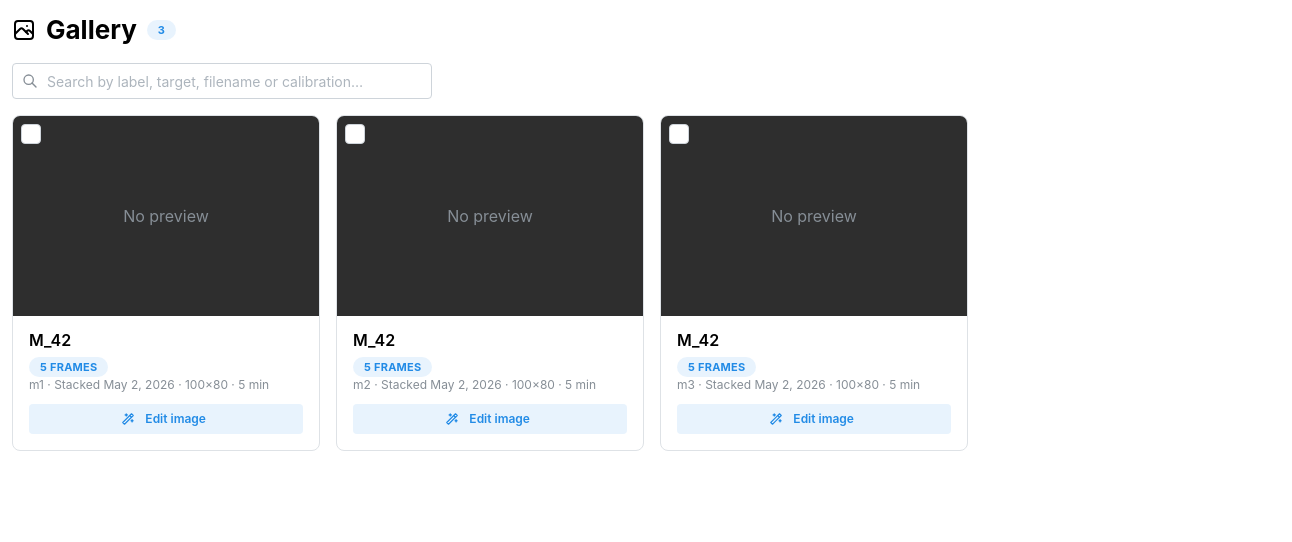
Scenario: Gallery batch apply › offers a Compare link only when exactly two images are selected
Click the 1st checkbox named "Select for batch edit". click: [31, 134]
box: [21,124,41,144]
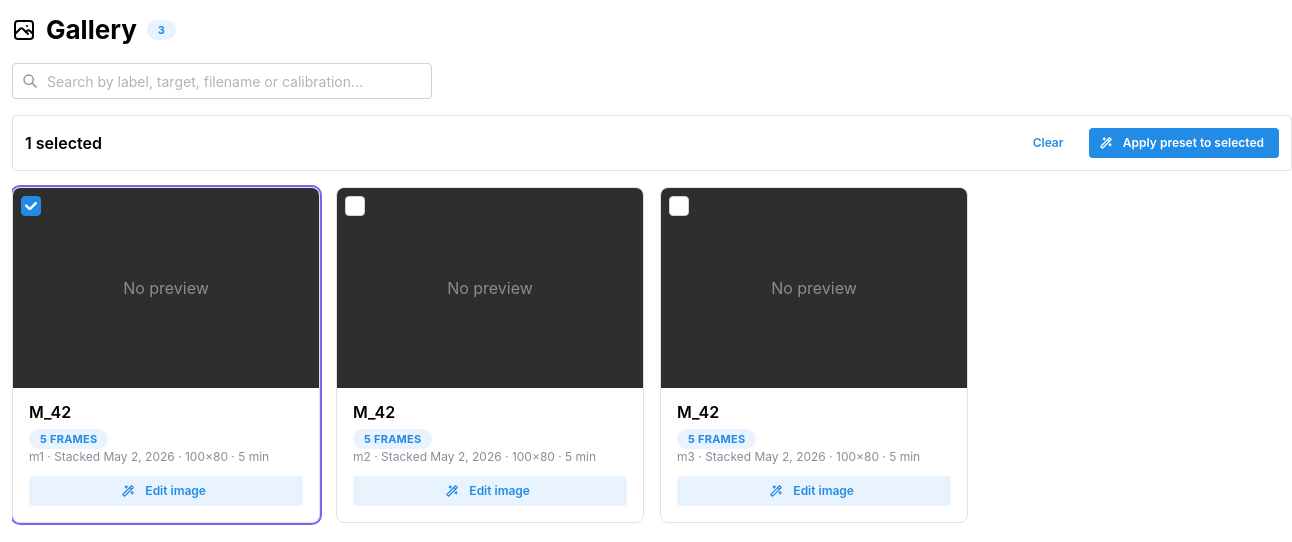
Check: the link "Compare" is not shown
Click the 2nd checkbox named "Select for batch edit". click: [355, 206]
box: [345,196,365,216]
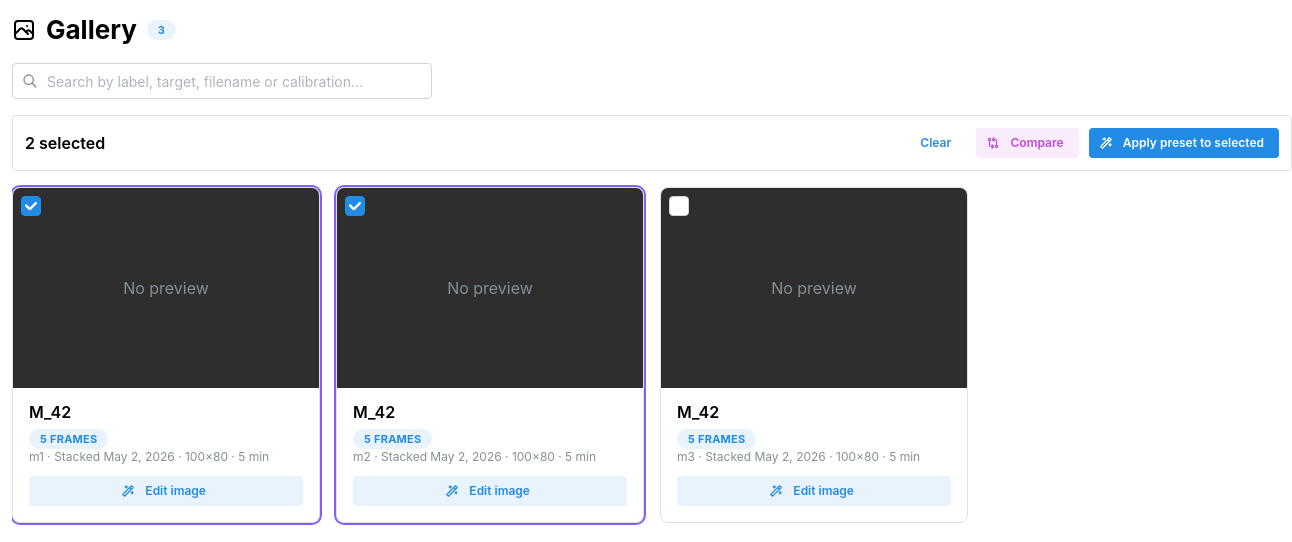
// A third selection removes the (pairwise-only) Compare action again.
Click the 3rd checkbox named "Select for batch edit". click: [679, 206]
box: [669,196,689,216]
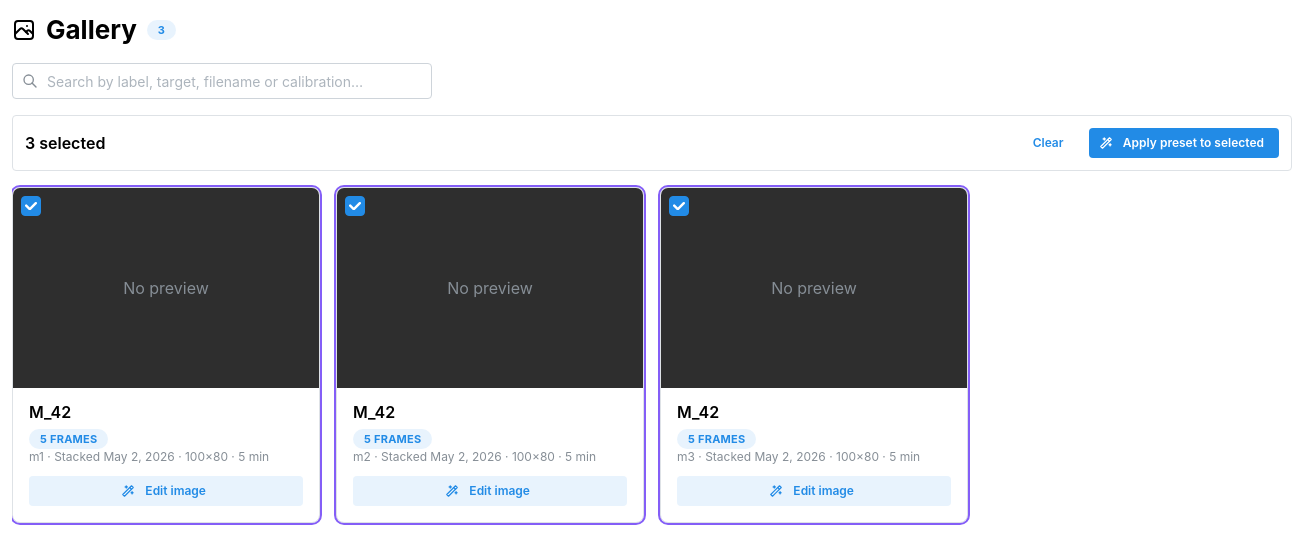
Check: the link "Compare" is gone
